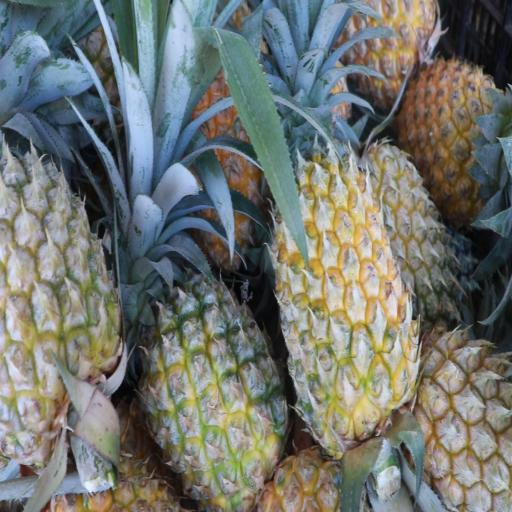------------------------------: (0, 151, 118, 447)
Pineapple - v8 v1: (272, 160, 409, 448), (147, 280, 283, 506), (401, 60, 502, 201), (344, 0, 435, 96)
